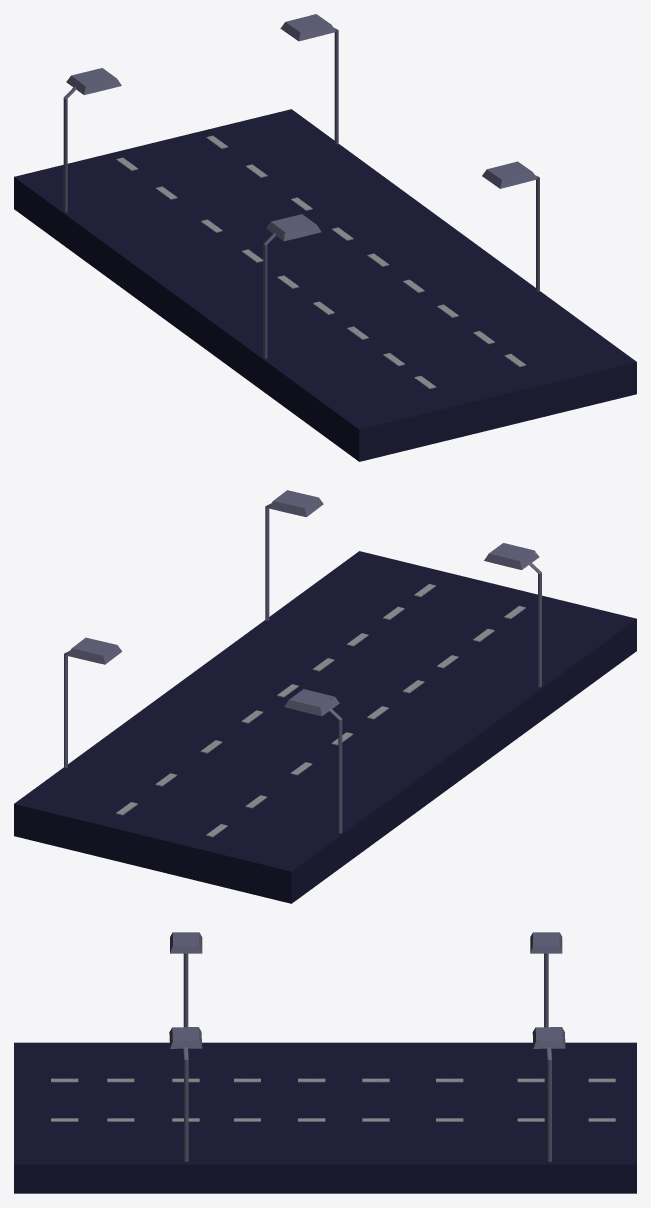
The model's file is field.obj.
3 renders of one model, top to bottom at view 1: azimuth 30°, elevation 25°; view 2: azimuth 150°, elevation 25°; view 3: azimuth 270°, elevation 25°, orthographic. The views are drawn at different scales.
Visible parts, largest first — view 1: light4.002; view 2: light4.002; view 3: light4.002.
Boxes of the visible parts, x1,y1,x2,y2 form: light4.002: (14,14,636,461); light4.002: (14,490,636,903); light4.002: (14,932,636,1193).
Bounding box in the file's own units: 18 × 10.01 × 38.77.
